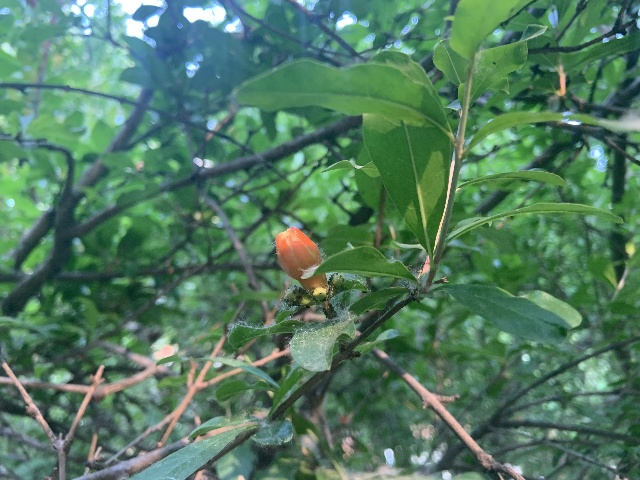bud: (275, 226, 328, 294)
